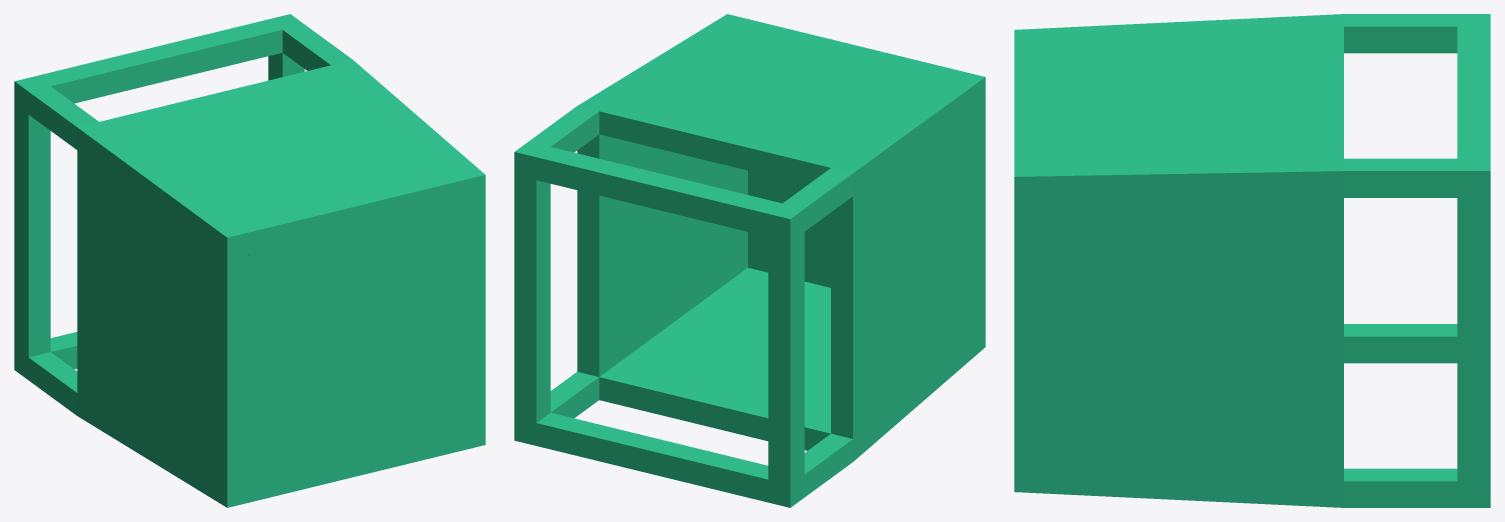
File: trashcan-green.obj
3 views of the same model, side by side, from view 1: azimuth 30°, elevation 25°; view 2: azimuth 150°, elevation 25°; view 3: azimuth 270°, elevation 25° (orthographic). The views are drawn at different scales.
Parts seen in each view (by area): view 1: trashcan-green_Plane.204; view 2: trashcan-green_Plane.204; view 3: trashcan-green_Plane.204.
Part boxes in pixels (x1,y1,x2,y2): trashcan-green_Plane.204: [14, 14, 485, 507]; trashcan-green_Plane.204: [514, 14, 985, 507]; trashcan-green_Plane.204: [1014, 14, 1490, 507].
Size of the model in its own units: 0.9751 by 0.9751 by 1.25.
